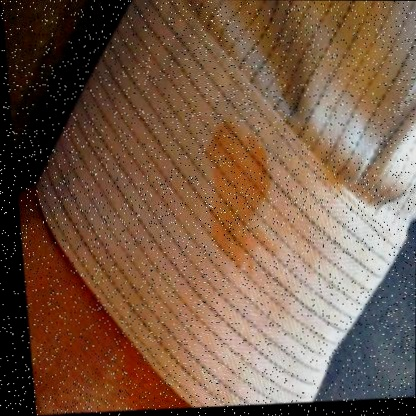kimchi: (198, 117, 292, 272)
